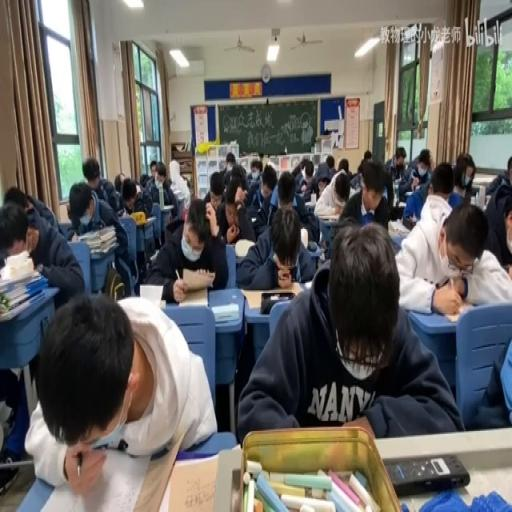calculator: (405, 286, 503, 340), (162, 450, 222, 509), (239, 284, 300, 310), (210, 301, 238, 323), (178, 286, 207, 307), (139, 283, 166, 304), (234, 238, 256, 258), (90, 244, 116, 258), (76, 226, 101, 240), (442, 310, 468, 323), (315, 206, 339, 220), (98, 225, 116, 240), (467, 185, 479, 205), (304, 196, 317, 209), (300, 228, 307, 248), (149, 248, 158, 260), (68, 230, 78, 240), (302, 280, 312, 289), (116, 208, 124, 218), (404, 190, 414, 198), (160, 204, 173, 210)
paper: (238, 220, 458, 442), (25, 290, 213, 491), (1, 192, 83, 313), (144, 194, 226, 298), (234, 199, 316, 286), (468, 323, 510, 429), (338, 159, 388, 229), (483, 174, 512, 268), (81, 154, 119, 212), (399, 145, 432, 201), (120, 176, 150, 225), (168, 156, 190, 212), (202, 166, 228, 209), (309, 157, 334, 199), (452, 152, 474, 199), (429, 161, 454, 195), (4, 183, 32, 212), (384, 145, 403, 181), (292, 158, 310, 195), (276, 169, 294, 206), (230, 164, 248, 194), (334, 176, 350, 205), (388, 204, 403, 224), (113, 172, 125, 194), (250, 159, 262, 179), (265, 156, 277, 174), (225, 152, 235, 171), (338, 156, 348, 174), (426, 149, 434, 171), (149, 159, 157, 179), (155, 170, 165, 186), (139, 174, 149, 188), (325, 155, 334, 169), (363, 149, 372, 161), (65, 202, 70, 219), (356, 162, 362, 175), (509, 158, 512, 178)
person: (385, 452, 470, 494), (402, 215, 415, 230), (286, 263, 297, 279), (308, 240, 318, 250)
